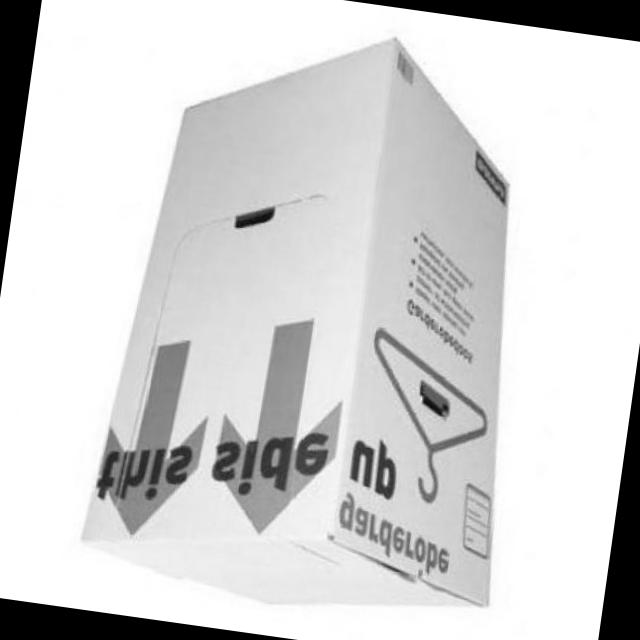box: (73, 2, 567, 640)
